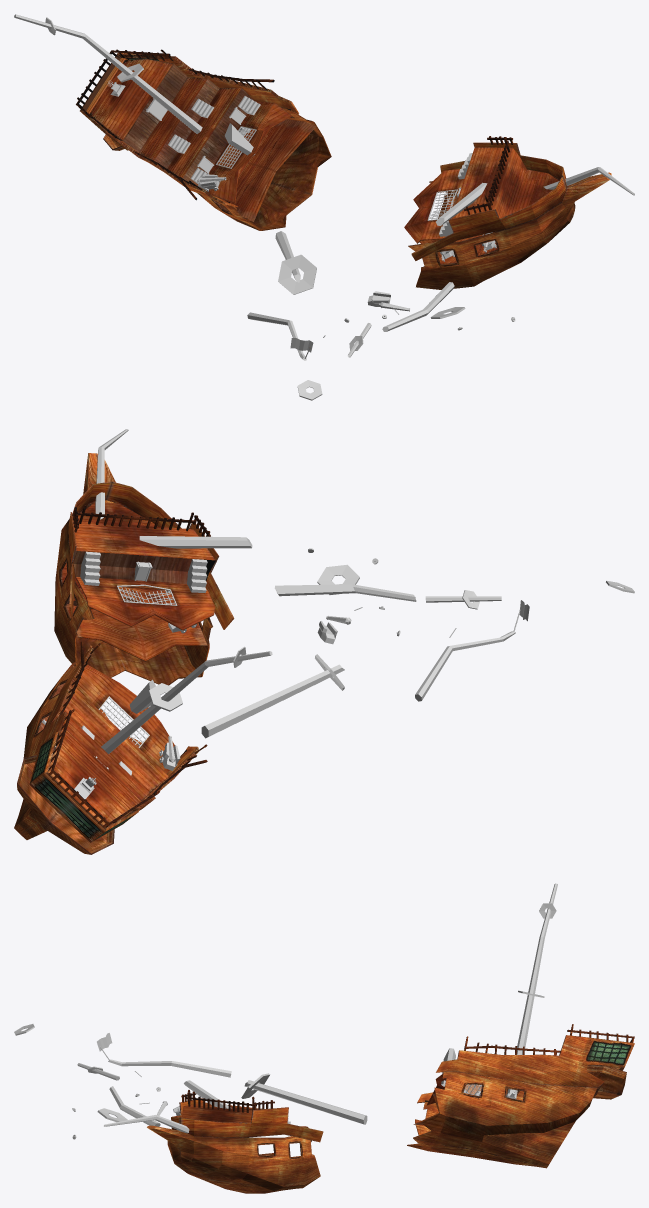
File: GaleonLowpoly.fbx
The picture shows the model from 3 angles, top to bottom: view 1: azimuth 30°, elevation 25°; view 2: azimuth 150°, elevation 25°; view 3: azimuth 270°, elevation 25°; orthographic projection. The views are drawn at different scales.
Visible parts, largest first — view 1: Galeon_Pirata, Aparejos; view 2: Galeon_Pirata, Aparejos; view 3: Galeon_Pirata, Aparejos.
Boxes of the visible parts, bbox=[...] form: Galeon_Pirata: bbox=[76, 49, 611, 289]; Aparejos: bbox=[14, 14, 634, 400]; Galeon_Pirata: bbox=[14, 453, 234, 854]; Aparejos: bbox=[42, 429, 634, 799]; Galeon_Pirata: bbox=[147, 1024, 634, 1193]; Aparejos: bbox=[14, 883, 557, 1139].
Bounding box in the file's own units: 8.22 × 4.38 × 12.69.
